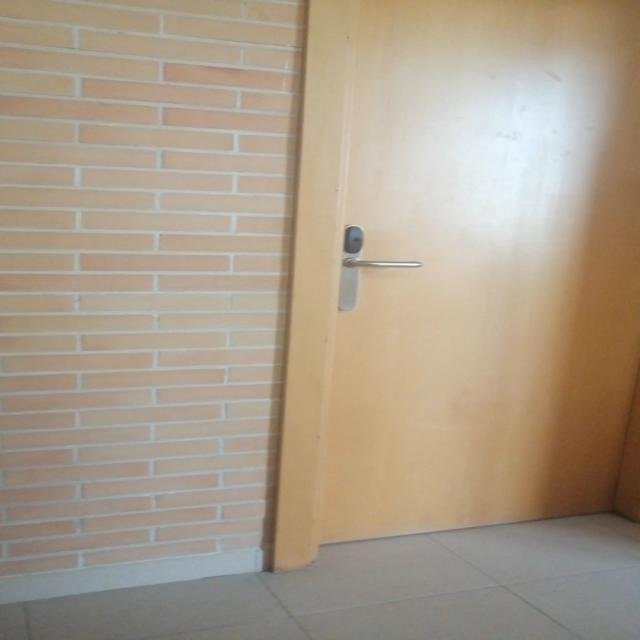door_handle: (341, 256, 425, 270)
